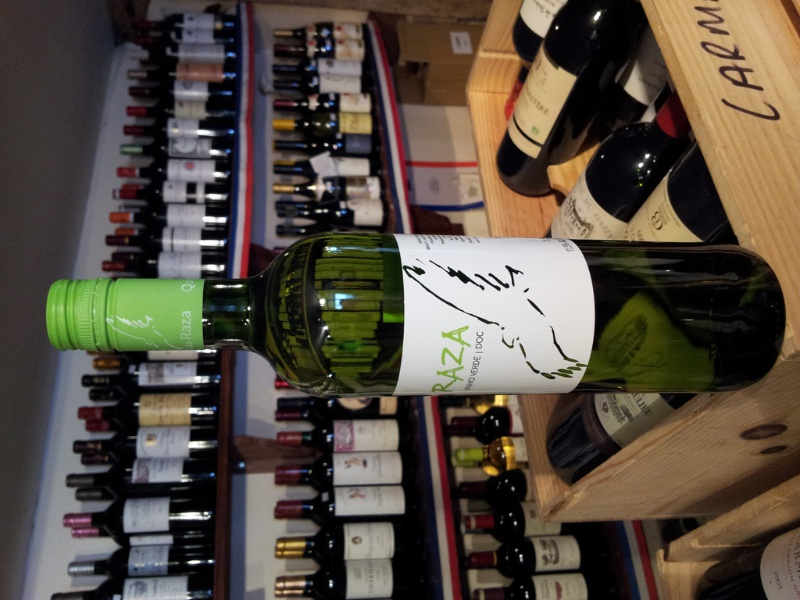wine: (34, 10, 791, 600), (31, 225, 787, 407)
